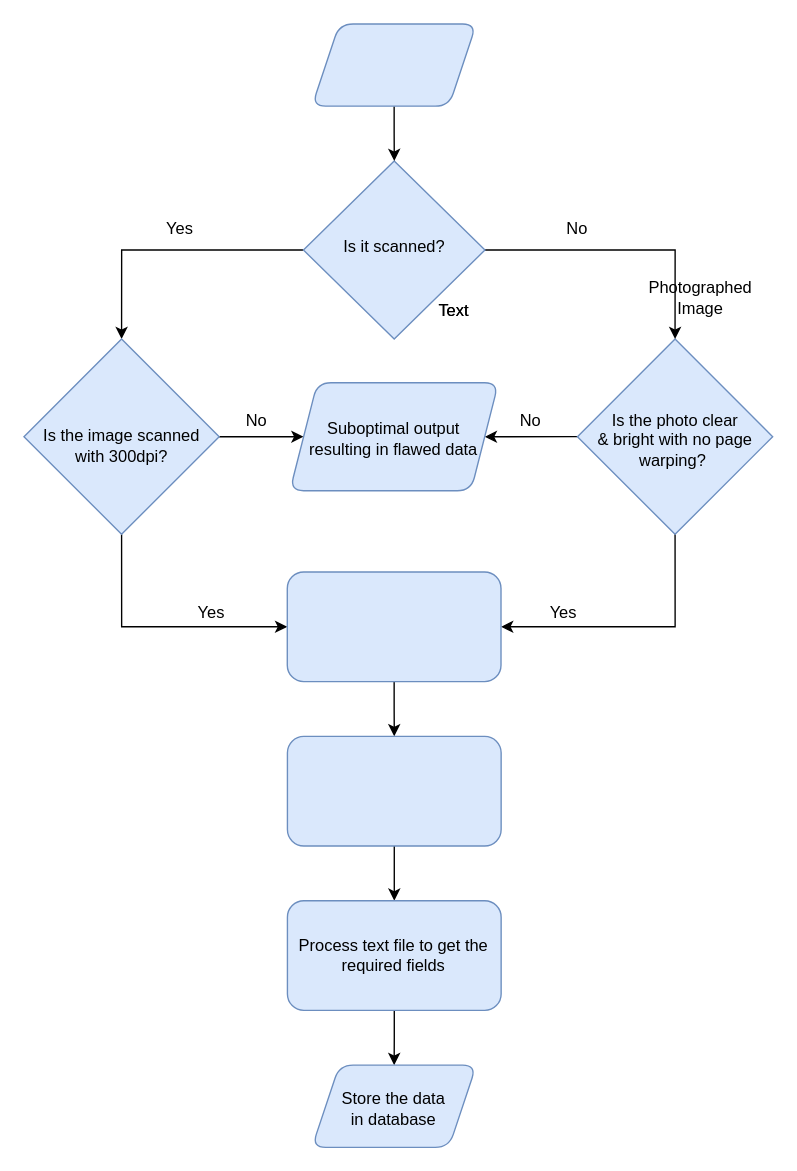
The diagram is 797 pixels wide and 1171 high, and some of its shapes have lost their labels. The centre of each missing label's shape, as x and y in pixels:
"Extracting data from the image to text" belongs at point 393,790.
"Input Image" belongs at point 393,64.
"Preprocessing image" belongs at point 393,626.
